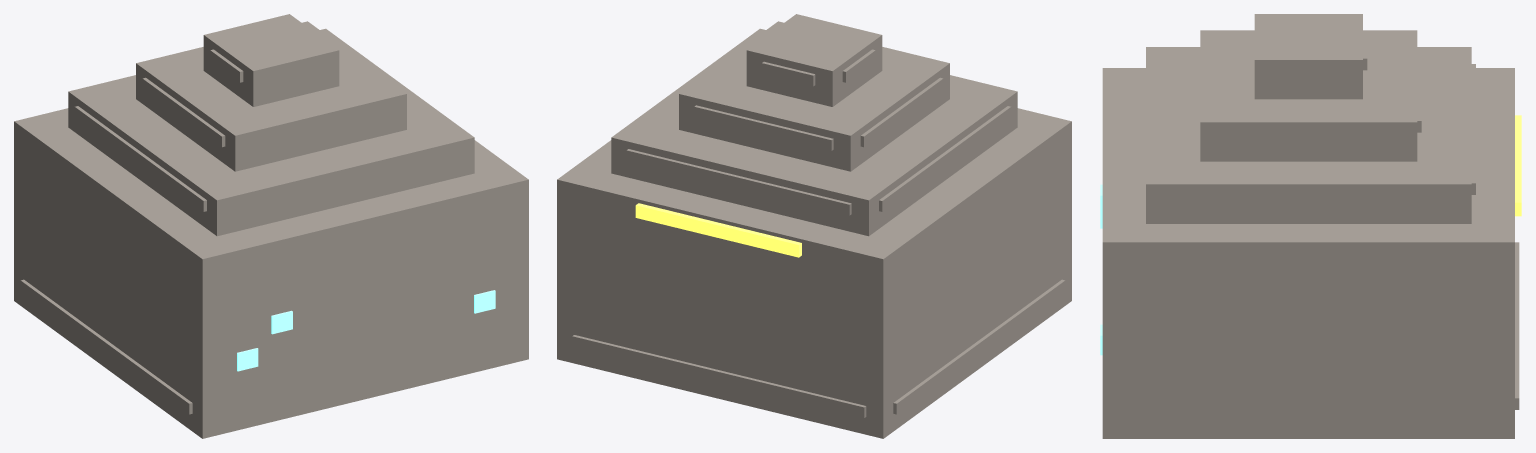
Rendered from exchange_lod0-CPMx9QNj.glb.
3 views of the same model, side by side, from view 1: azimuth 30°, elevation 25°; view 2: azimuth 150°, elevation 25°; view 3: azimuth 270°, elevation 25° (orthographic). The views are drawn at different scales.
Parts seen in each view (by area): view 1: body, window; view 2: body, sign; view 3: body, sign.
Part boxes in pixels (<box>): body: <box>14,14,528,438</box>; window: <box>237,290,495,371</box>; body: <box>557,14,1071,438</box>; sign: <box>635,203,801,257</box>; body: <box>1102,14,1519,438</box>; sign: <box>1515,115,1521,216</box>.
Bounding box in the file's own units: 0.768 × 0.64 × 0.776.
